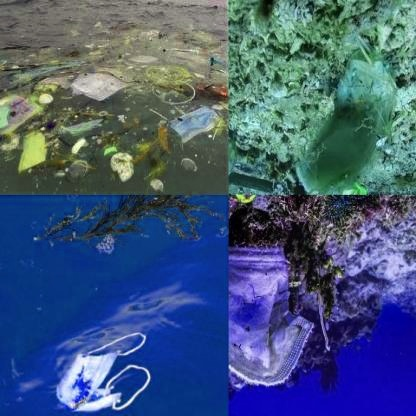Mask: (274, 34, 400, 194), (228, 234, 314, 382), (52, 329, 154, 415), (168, 103, 222, 143)
